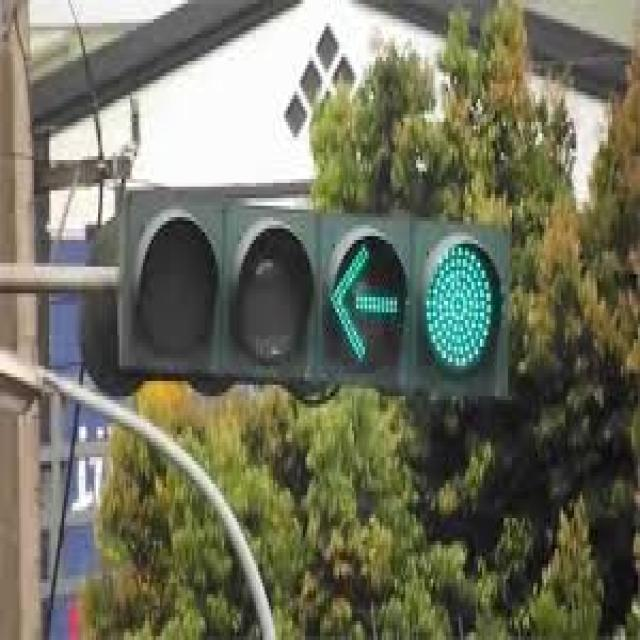green: (425, 229, 506, 362)
